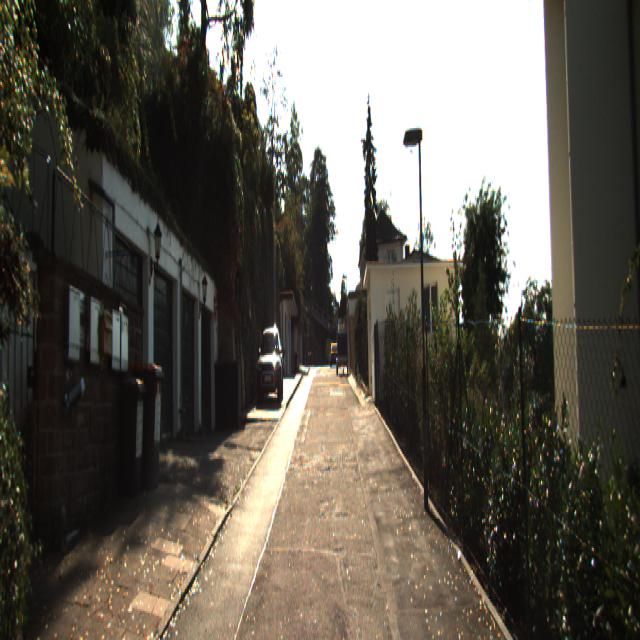Car: (257, 331, 284, 406), (336, 331, 349, 376)
